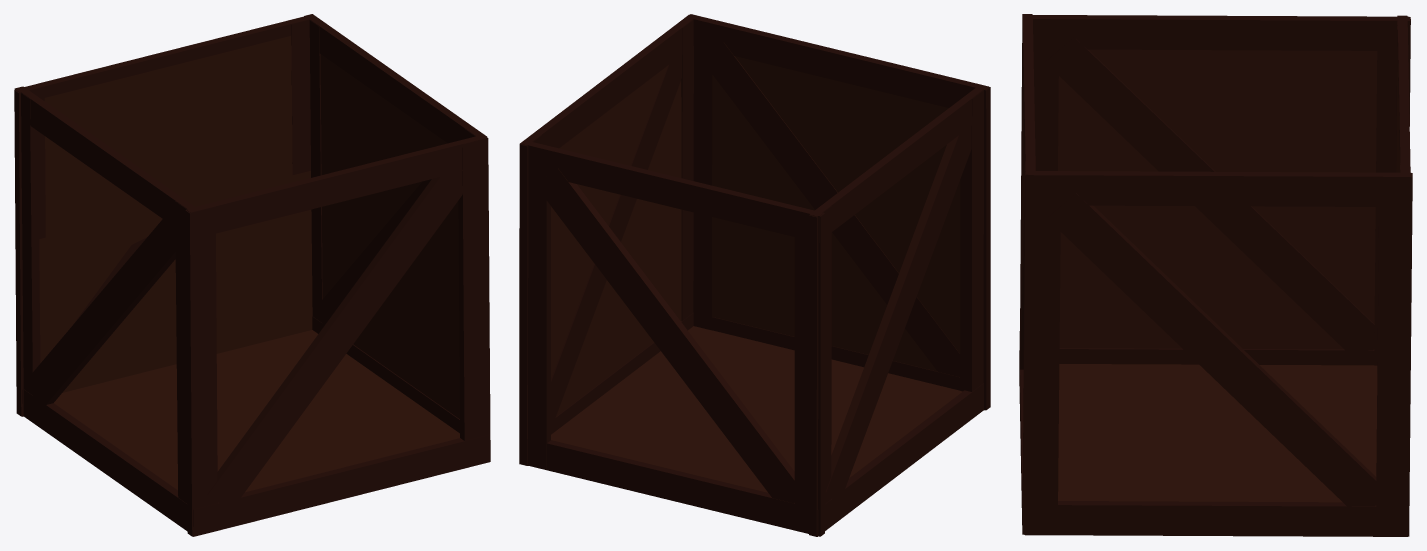
Rendered from ящик.obj.
The picture shows the model from 3 angles, left to right: view 1: azimuth 30°, elevation 25°; view 2: azimuth 150°, elevation 25°; view 3: azimuth 270°, elevation 25°; orthographic projection. The views are drawn at different scales.
Parts seen in each view (by area): view 1: оболочка_ящика; view 2: оболочка_ящика; view 3: оболочка_ящика.
Part boxes in pixels (x1,y1,x2,y2): оболочка_ящика: (14,14,490,536); оболочка_ящика: (519,14,990,536); оболочка_ящика: (1019,14,1412,536).
Size of the model in its own units: 2.14 by 2.2 by 2.15.
